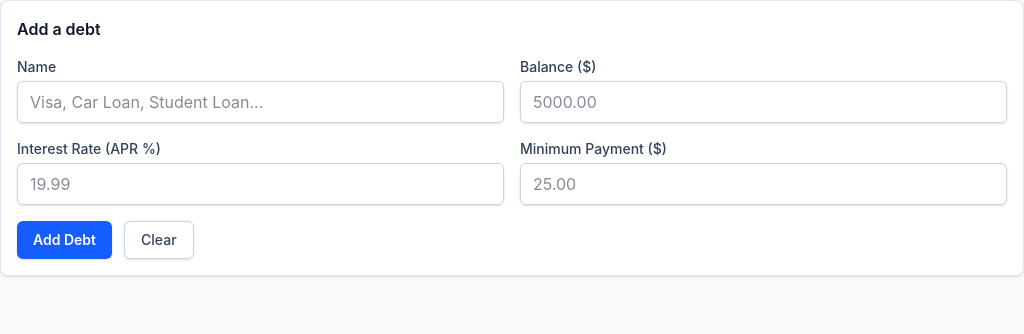
DebtForm › clears a field's error as soon as the user edits it
The width and height of the screenshot is (1024, 334).
Click the button "Add Debt" at (64, 240), box [17, 221, 112, 259]
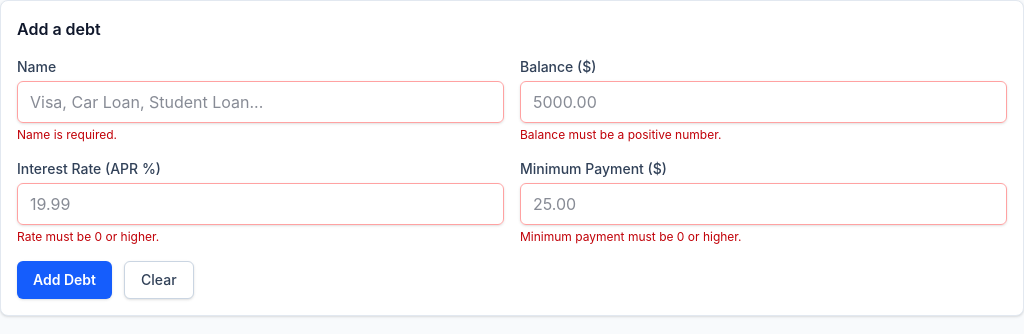
Result: the text "Name is required." is shown at [17, 127, 117, 142]
Type "Visa" into the field labelled "Name" at (260, 102), box [17, 81, 504, 123]
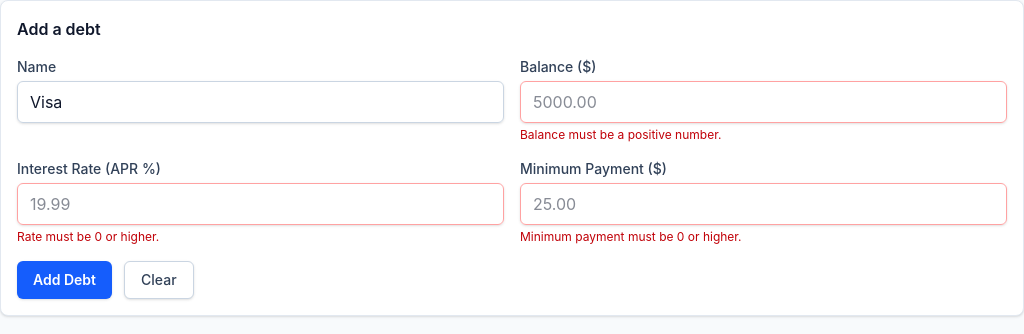
Result: the text "Name is required" is gone
